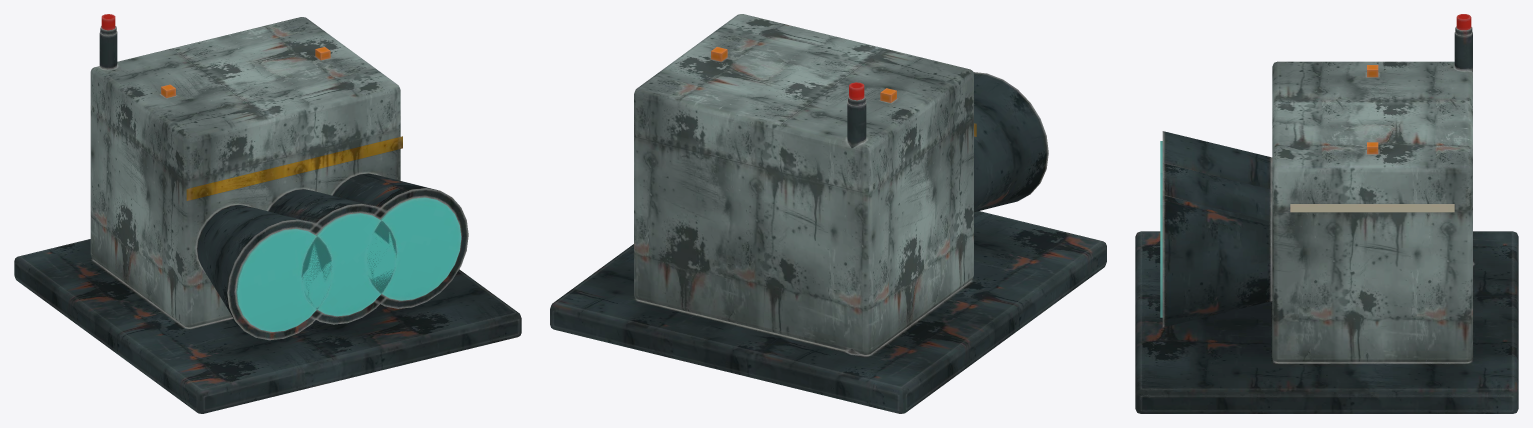
File: epstein_drive.glb
The picture shows the model from 3 angles, left to right: view 1: azimuth 30°, elevation 25°; view 2: azimuth 150°, elevation 25°; view 3: azimuth 270°, elevation 25°; orthographic projection. The views are drawn at different scales.
Visible parts, largest first — view 1: te_epstein_drive; view 2: te_epstein_drive; view 3: te_epstein_drive.
Part boxes in pixels (x1,y1,x2,y2): te_epstein_drive: (14,14,521,413); te_epstein_drive: (550,14,1106,413); te_epstein_drive: (1135,14,1518,413).
Size of the model in its own units: 0.84 by 0.6576 by 0.84.
1 material, 1 textured.
